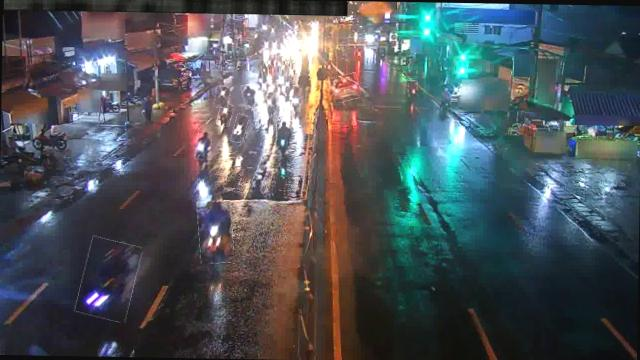Bike: (78, 238, 138, 321), (196, 200, 234, 264), (276, 120, 294, 154), (195, 132, 212, 160), (232, 114, 248, 143), (242, 84, 258, 108), (217, 103, 233, 126), (263, 92, 278, 116), (215, 86, 230, 108), (292, 86, 301, 112), (408, 80, 418, 97)
Car: (330, 73, 360, 102)
